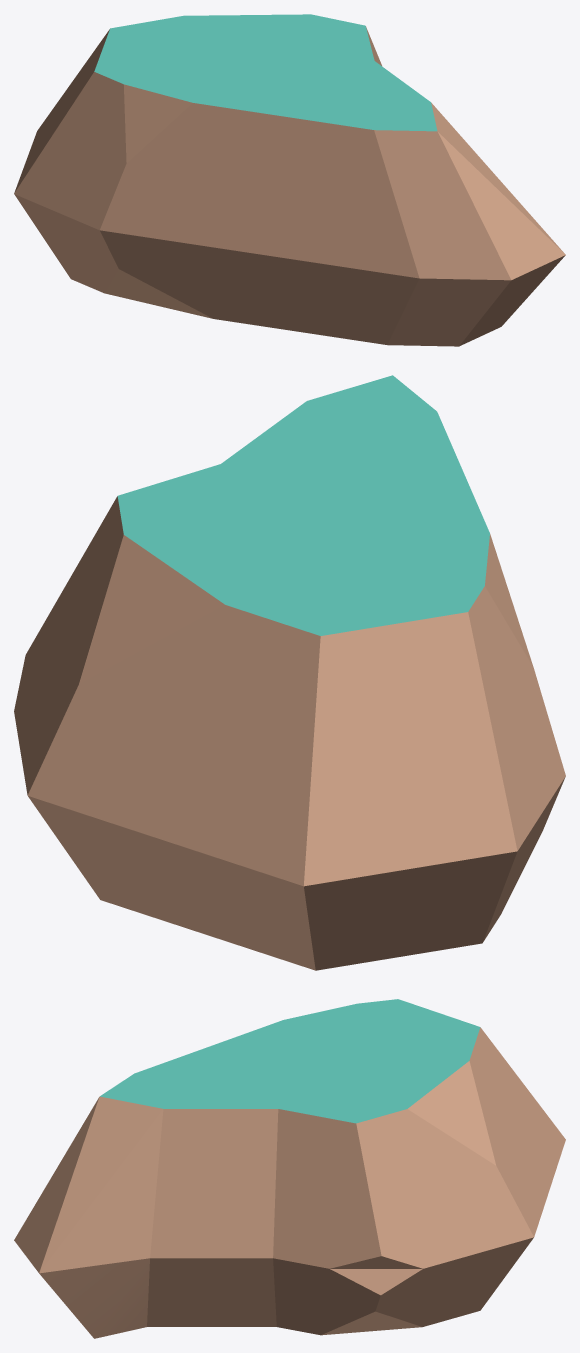
The model's file is rock_largeB.glb.
The picture shows the model from 3 angles, top to bottom: view 1: azimuth 30°, elevation 25°; view 2: azimuth 150°, elevation 25°; view 3: azimuth 270°, elevation 25°; orthographic projection. The views are drawn at different scales.
Parts seen in each view (by area): view 1: rock_largeB; view 2: rock_largeB; view 3: rock_largeB.
Boxes of the visible parts, x1,y1,x2,y2 form: rock_largeB: [14, 14, 565, 346]; rock_largeB: [14, 375, 565, 970]; rock_largeB: [14, 999, 565, 1338].
Bounding box in the file's own units: 0.7667 × 0.4303 × 1.02.
